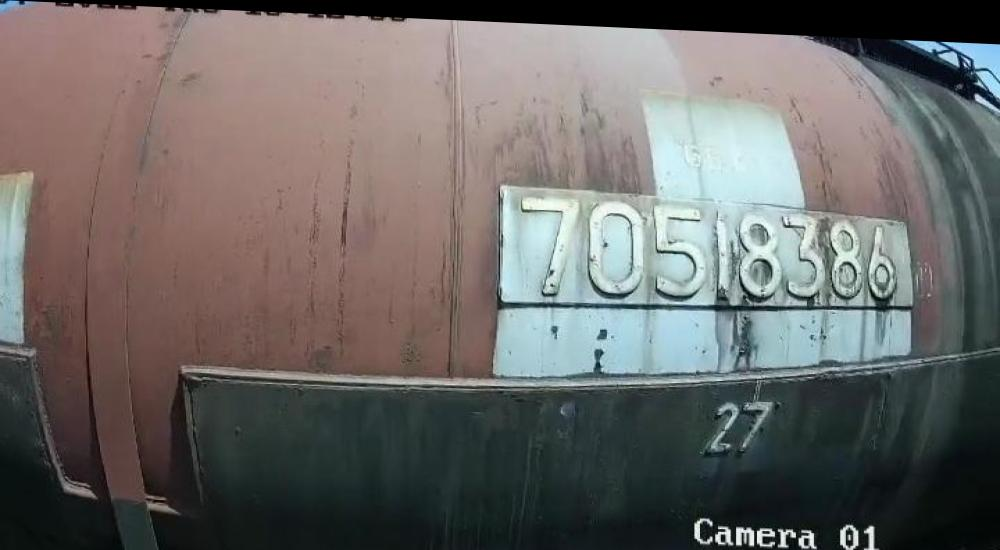Wagon-number: (512, 187, 914, 299)
